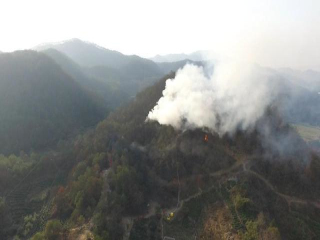smoke: (143, 39, 314, 154)
